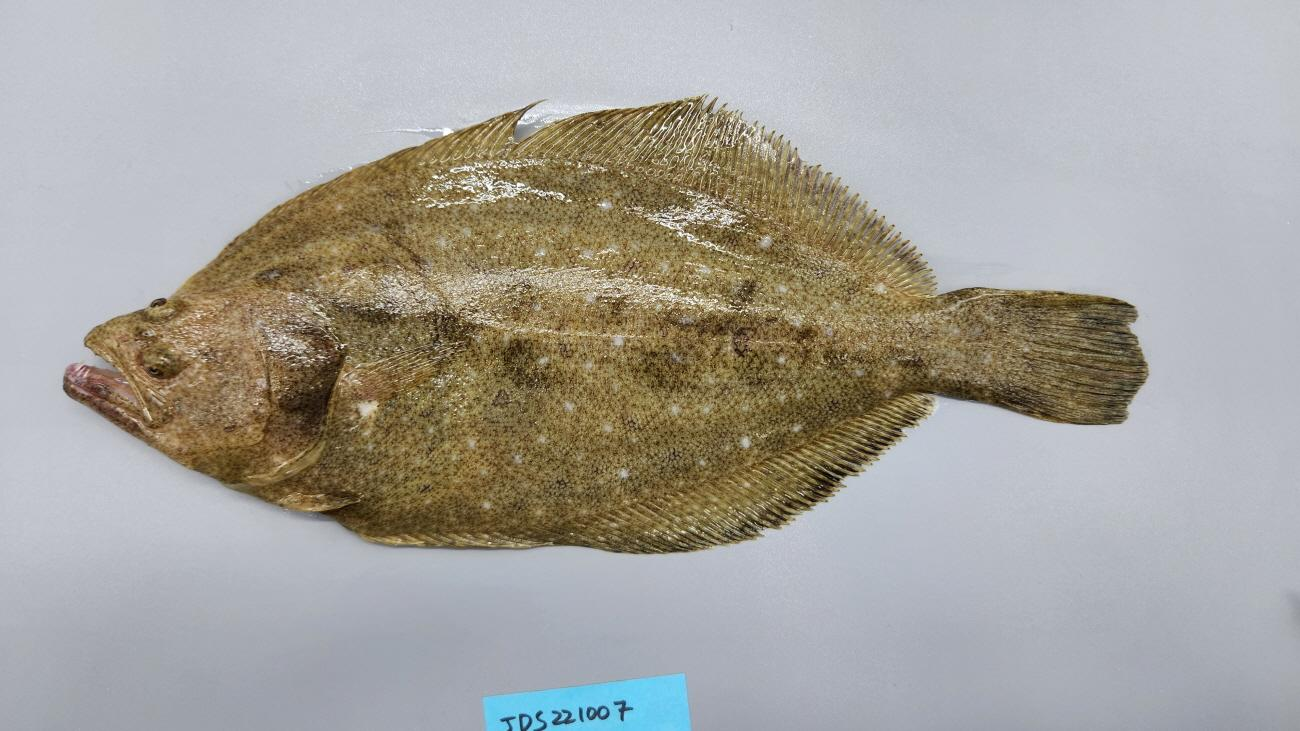VIMOU: (67, 329, 174, 429)
VIOUY: (62, 88, 1150, 564)
